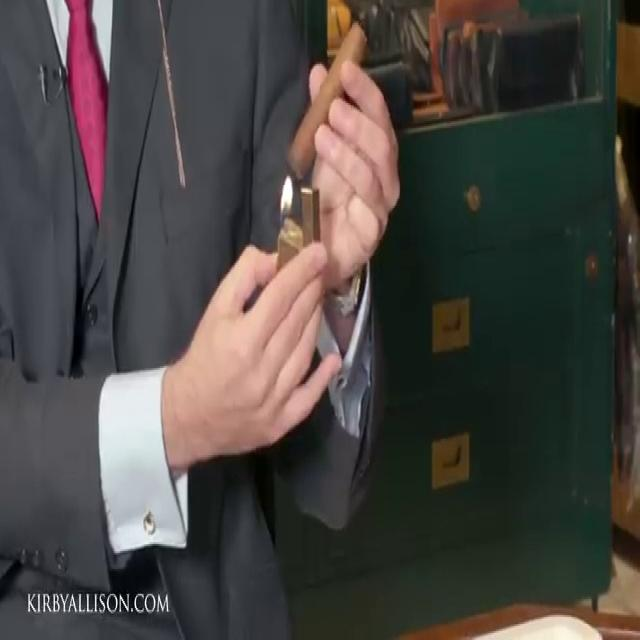Smooking: (277, 17, 381, 180)
